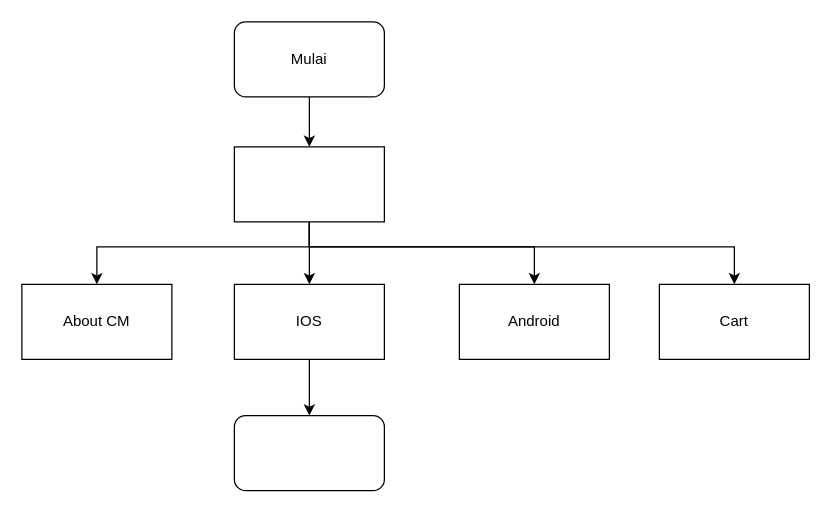
The diagram is 831 pixels wide and 513 high, and some of its shapes have lost their labels. The centre of each missing label's shape, as x and y in pixels:
Home Page: (x=308, y=184)
Selesai: (x=308, y=452)
